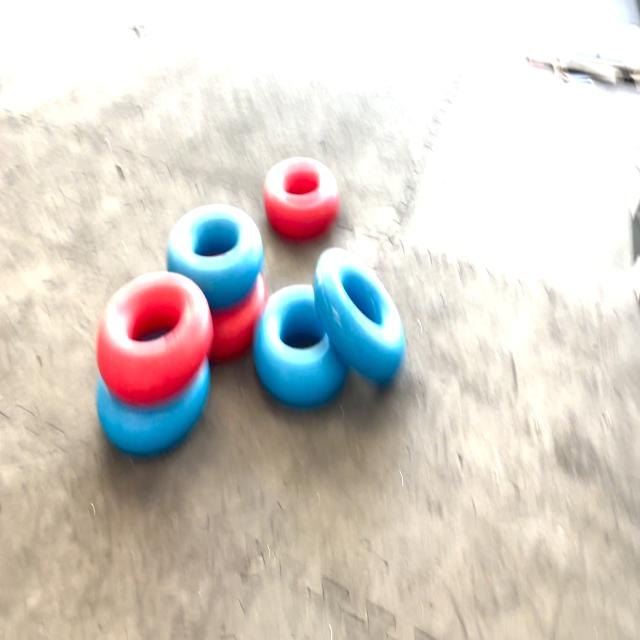Blue-Ring: (314, 249, 405, 384), (254, 284, 348, 407), (96, 360, 210, 456), (166, 204, 264, 309)
Red-Ring: (96, 271, 214, 404), (264, 158, 340, 240), (209, 273, 269, 362)
